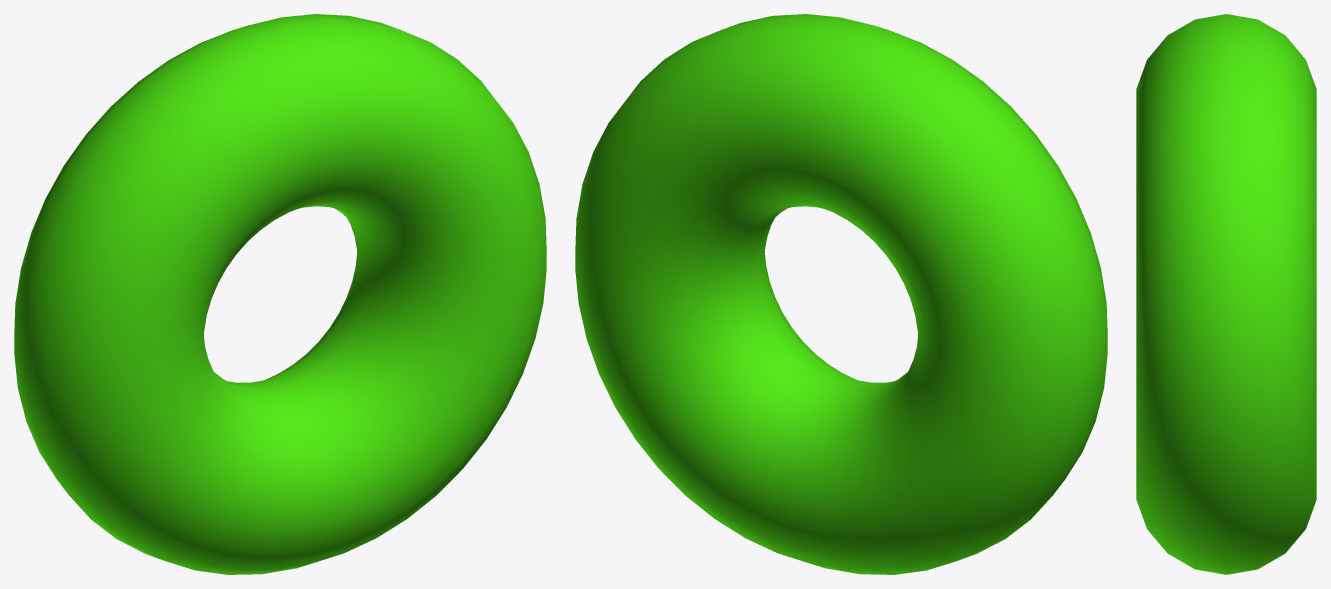
The picture shows the model from 3 angles, left to right: view 1: azimuth 30°, elevation 25°; view 2: azimuth 150°, elevation 25°; view 3: azimuth 270°, elevation 25°; orthographic projection. The views are drawn at different scales.
Visible parts, largest first — view 1: Torus; view 2: Torus; view 3: Torus.
Part boxes in pixels (x1,y1,x2,y2): Torus: (14, 14, 546, 574); Torus: (575, 14, 1107, 574); Torus: (1136, 14, 1316, 574).
Bounding box in the file's own units: 2.02 × 2.02 × 0.65.
